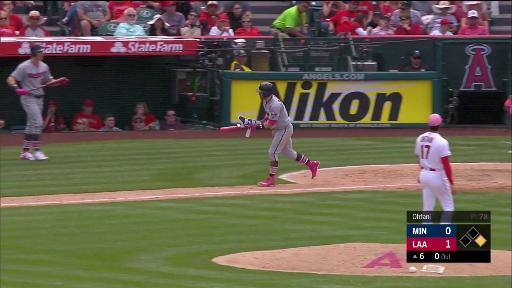pitcher: (414, 114, 457, 247)
